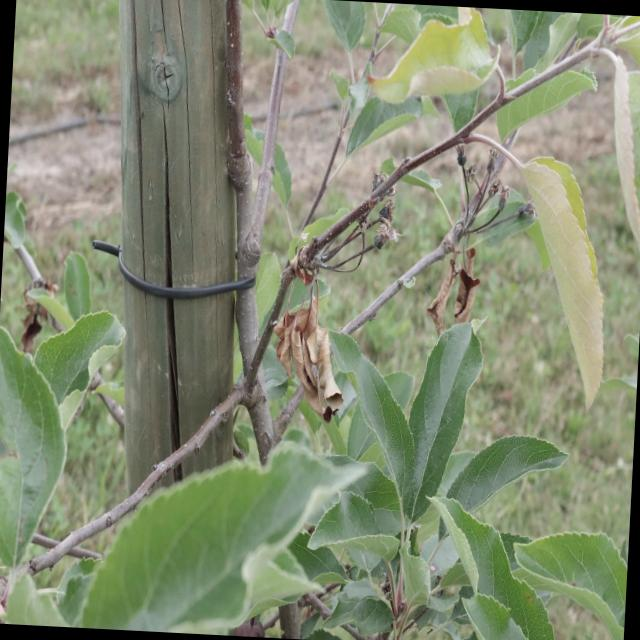-FireBlight-: (274, 276, 350, 418), (428, 236, 482, 330)
